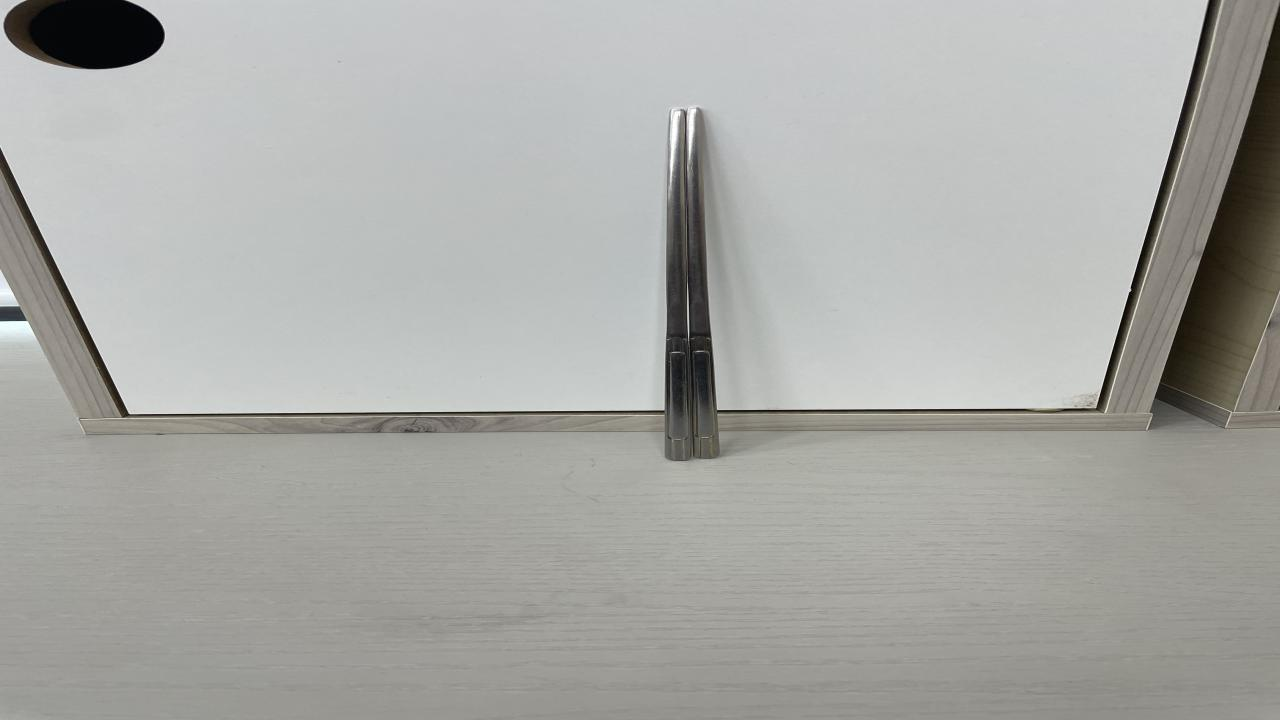chopstick: (659, 107, 718, 461)
